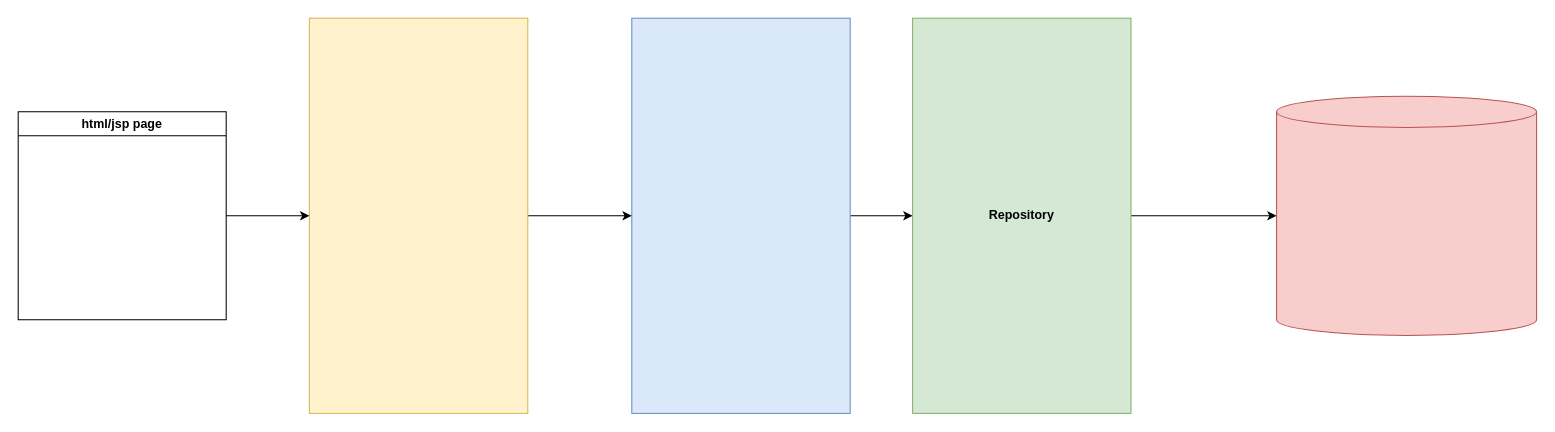
Image size: 1555x432. Some labels were removed from this diagram. The centre of each missing label's shape, as x and y in pixels:
"Controller" belongs at point (418, 215).
"Service" belongs at point (740, 215).
